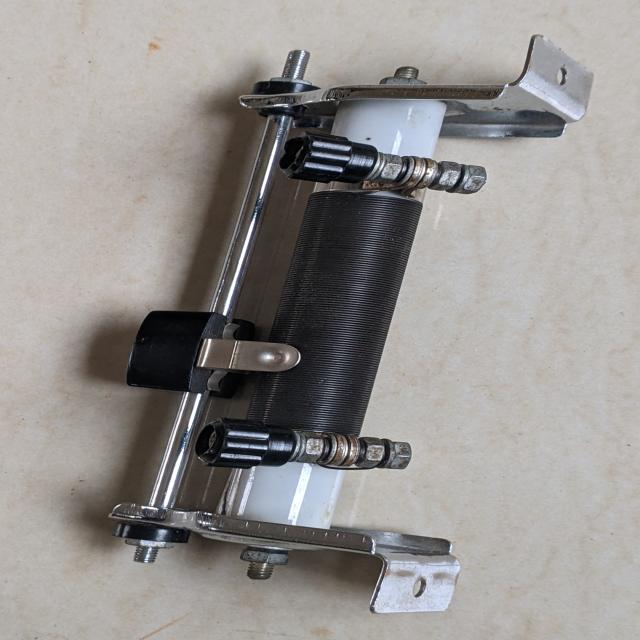Rheostat: (79, 26, 616, 616)
